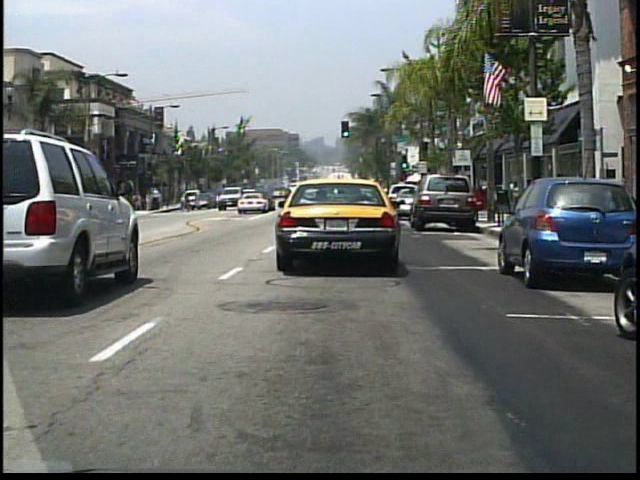person: (182, 189, 192, 214)
